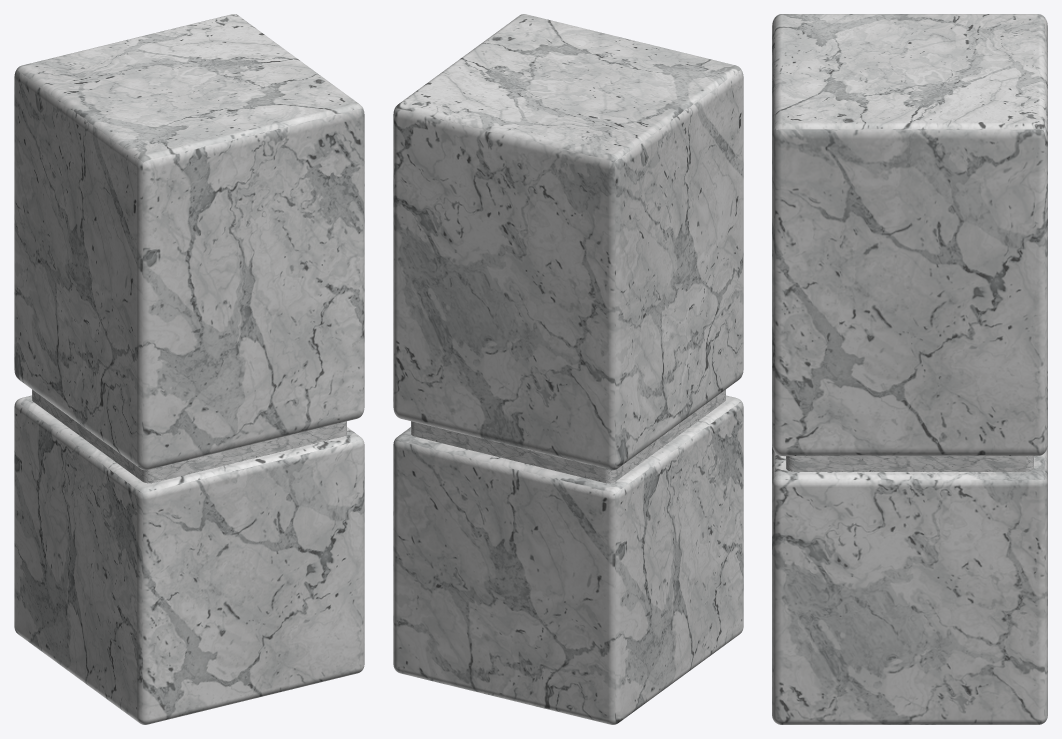
Rendered from tallLightFlatSquare.glb.
3 renders of one model, left to right at view 1: azimuth 30°, elevation 25°; view 2: azimuth 150°, elevation 25°; view 3: azimuth 270°, elevation 25°, orthographic. The views are drawn at different scales.
Parts seen in each view (by area): view 1: tallLightFlatSquare; view 2: tallLightFlatSquare; view 3: tallLightFlatSquare.
Part boxes in pixels (<box>): tallLightFlatSquare: <box>14,14,364,724</box>; tallLightFlatSquare: <box>393,14,743,724</box>; tallLightFlatSquare: <box>772,14,1047,724</box>.
Size of the model in its own units: 2 by 4.81 by 2.
Materials: 3 (3 with a texture image).
